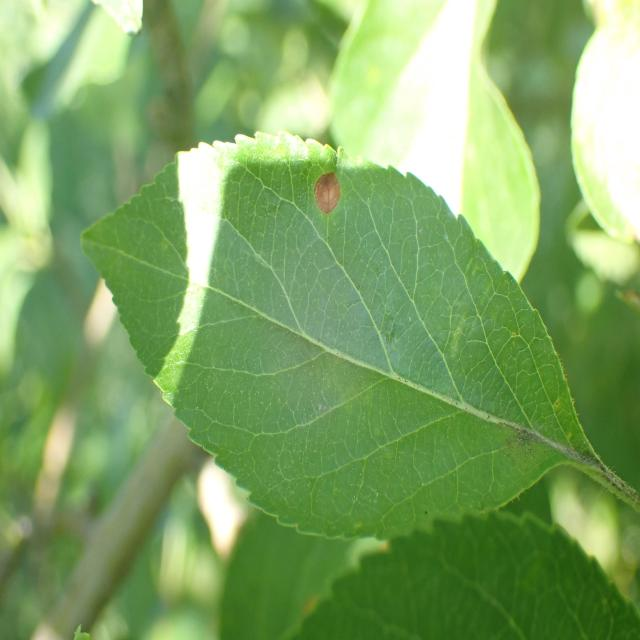frog-eye-leaf-spot: (80, 128, 587, 542)
